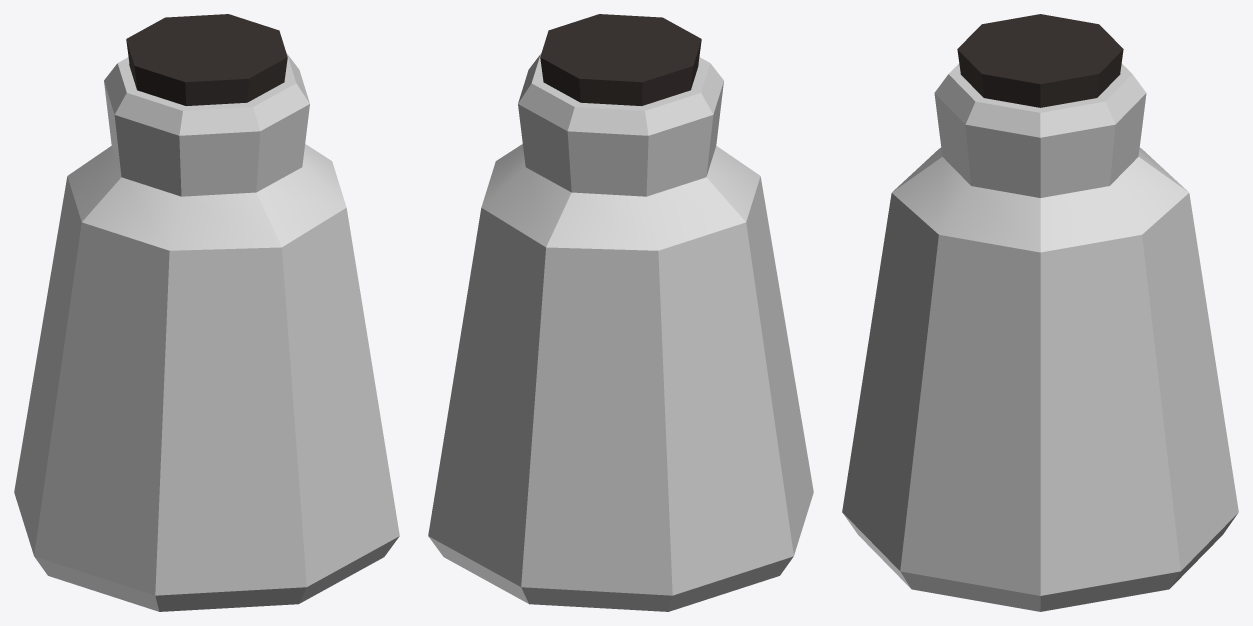
Rendered from dye-bottle-2.fbx.
3 renders of one model, left to right at view 1: azimuth 30°, elevation 25°; view 2: azimuth 150°, elevation 25°; view 3: azimuth 270°, elevation 25°, orthographic.
Visible parts, largest first — view 1: dye-bottle-2; view 2: dye-bottle-2; view 3: dye-bottle-2.
Part boxes in pixels (<box>): dye-bottle-2: <box>14,14,399,611</box>; dye-bottle-2: <box>428,14,813,611</box>; dye-bottle-2: <box>842,14,1238,611</box>.
Bounding box in the file's own units: 11.71 × 15.81 × 11.71.
2 materials, 1 textured.
